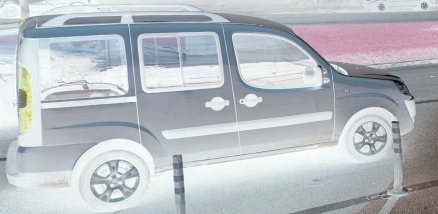car: (10, 15, 416, 208)
